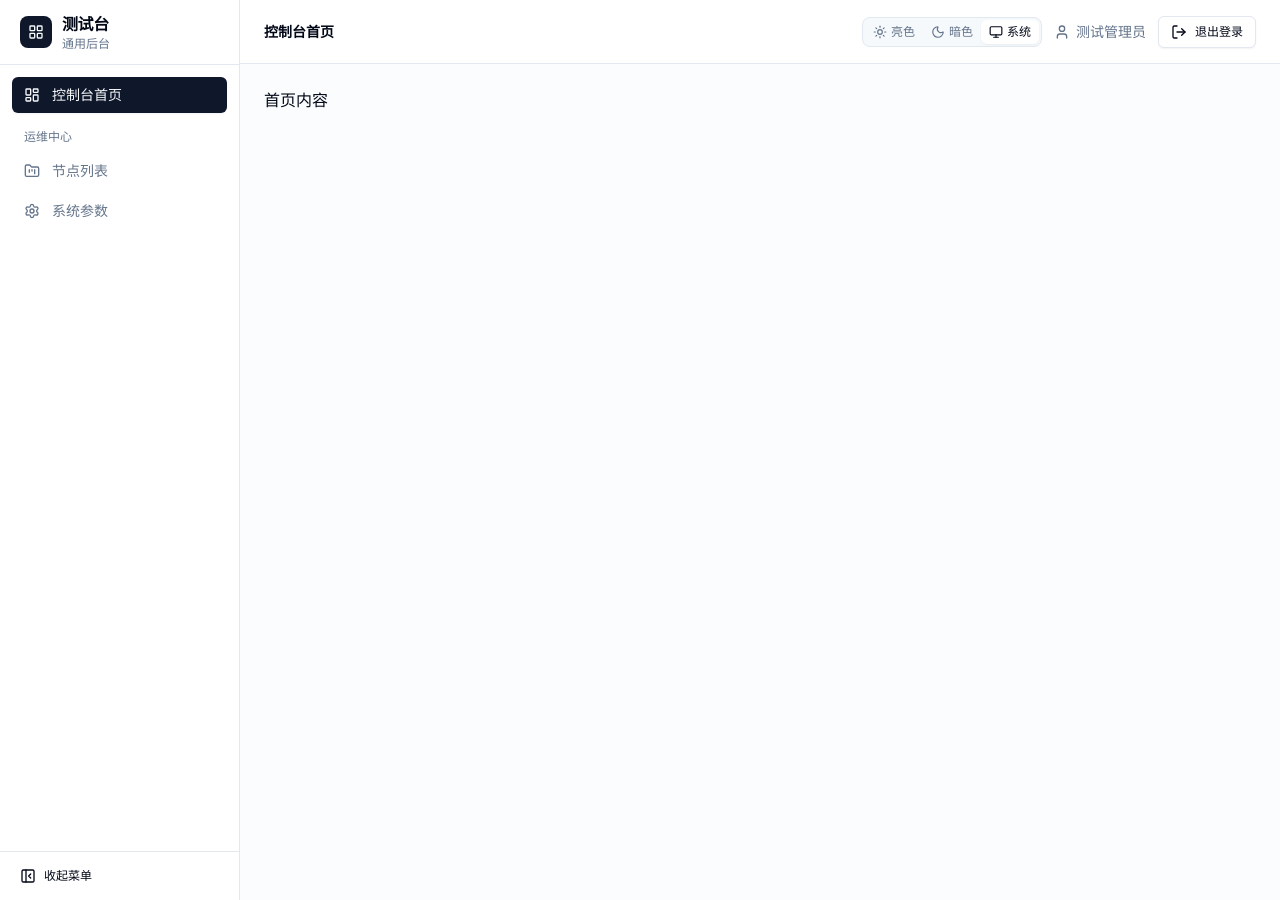
Test case: AdminLayout 通用后台骨架 › 桌面端支持侧栏折叠与展开，并将状态持久化到 localStorage
The image size is (1280, 900).
Later steps or results of the test are not shown.
Click the button with aria-label "折叠侧边栏" at (120,876), box top-left (8, 860), bottom-right (231, 892)
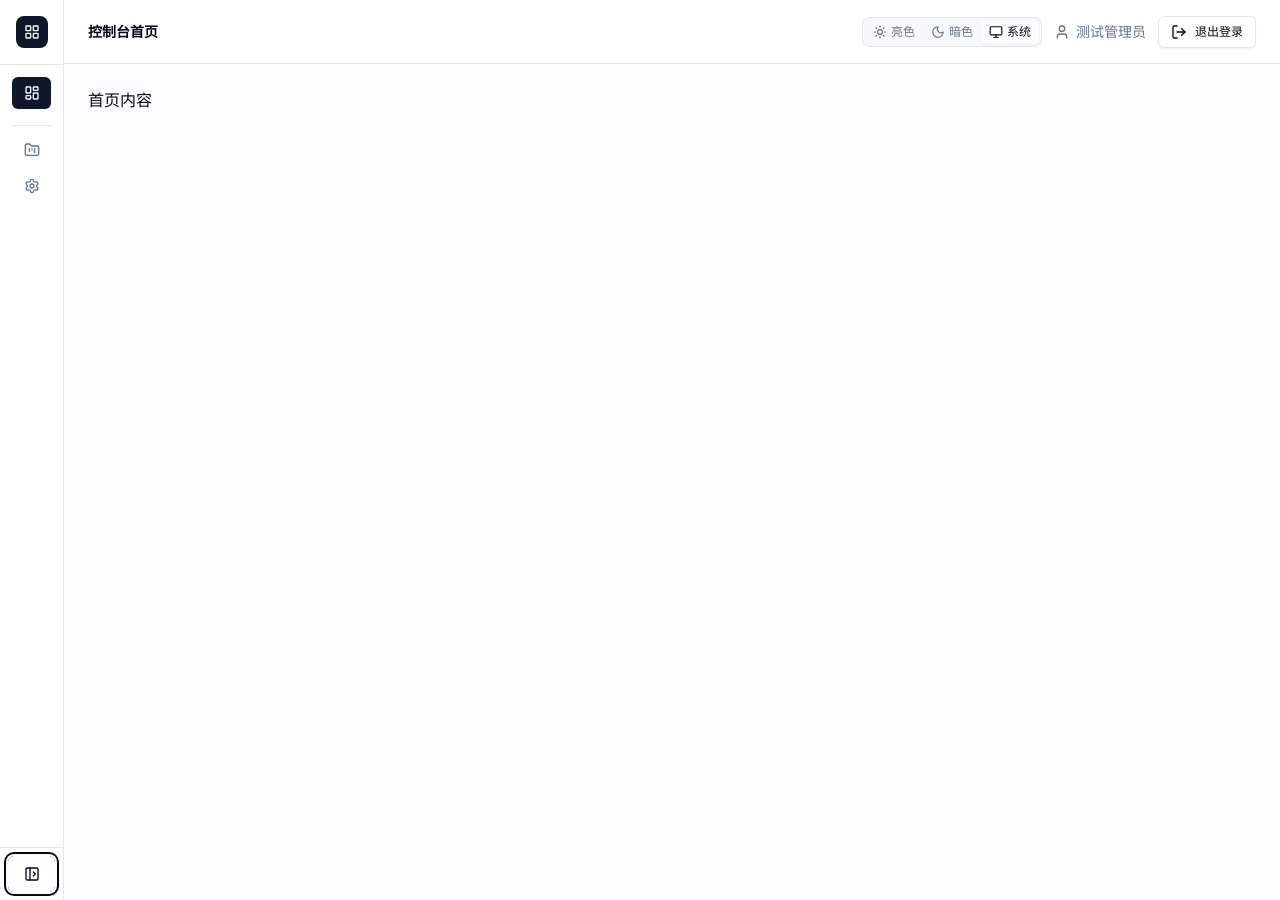
Expected: the element with test id "desktop-sidebar" has attribute data-collapsed="true", top-left (0, 0), bottom-right (64, 899)
